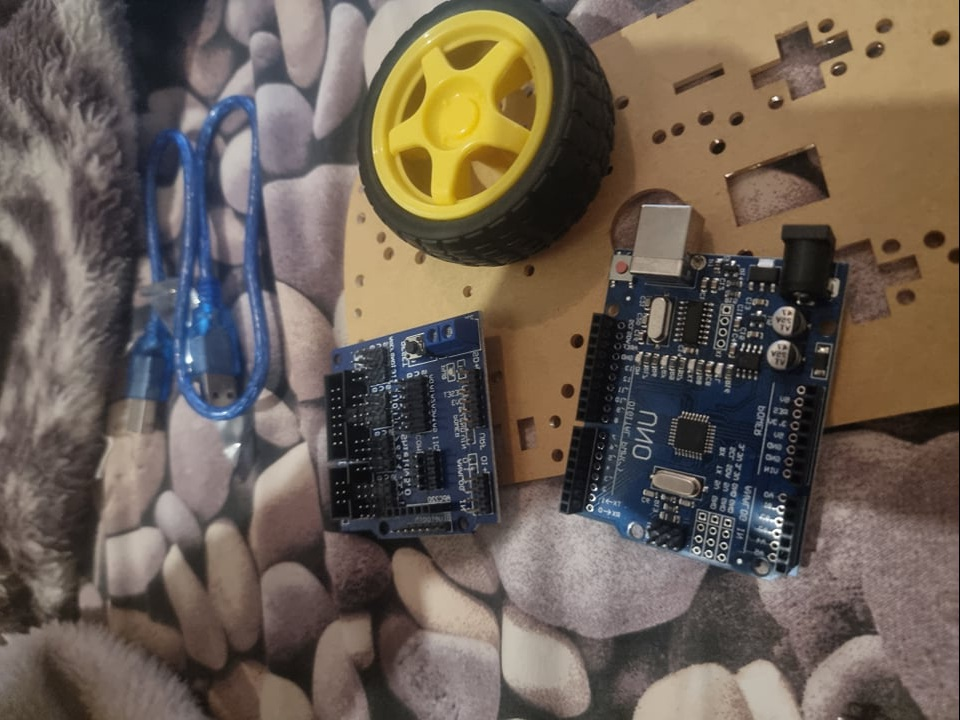5V EXPANSION: (322, 307, 507, 541)
UNO R3: (557, 190, 850, 581)
